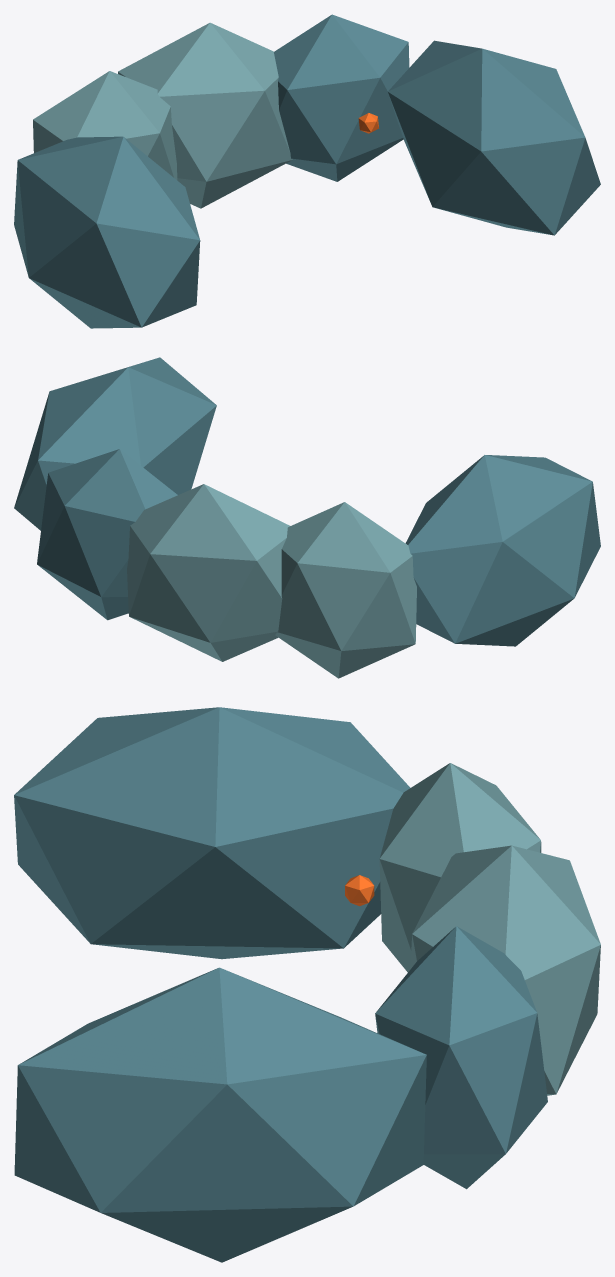
The model's file is wavebreak_arch.glb.
3 renders of one model, top to bottom at view 1: azimuth 30°, elevation 25°; view 2: azimuth 150°, elevation 25°; view 3: azimuth 270°, elevation 25°, orthographic. The views are drawn at different scales.
Visible parts, largest first — view 1: Arch_Right, Arch_Left, Arch_Top_Center, Arch_Top_Right, Arch_Top_Left; view 2: Arch_Left, Arch_Top_Center, Arch_Top_Left, Arch_Right, Arch_Top_Right; view 3: Arch_Right, Arch_Left, Arch_Top_Right, Arch_Top_Center, Arch_Top_Left, Arch_Beacon_L.
Boxes of the visible parts, bbox=[...] form: Arch_Right: bbox=[388, 40, 600, 235]; Arch_Left: bbox=[14, 136, 200, 328]; Arch_Top_Center: bbox=[118, 22, 292, 208]; Arch_Top_Right: bbox=[274, 14, 409, 181]; Arch_Top_Left: bbox=[33, 71, 177, 179]; Arch_Left: bbox=[405, 455, 600, 646]; Arch_Top_Center: bbox=[127, 484, 289, 661]; Arch_Top_Left: bbox=[275, 502, 416, 678]; Arch_Right: bbox=[14, 357, 216, 530]; Arch_Top_Right: bbox=[37, 449, 177, 620]; Arch_Right: bbox=[14, 967, 426, 1262]; Arch_Left: bbox=[14, 707, 410, 959]; Arch_Top_Right: bbox=[375, 926, 547, 1189]; Arch_Top_Center: bbox=[410, 845, 600, 1095]; Arch_Top_Left: bbox=[379, 763, 541, 972]; Arch_Beacon_L: bbox=[345, 875, 374, 906].
Bounding box in the file's own units: 14.79 × 4.95 × 9.5.
